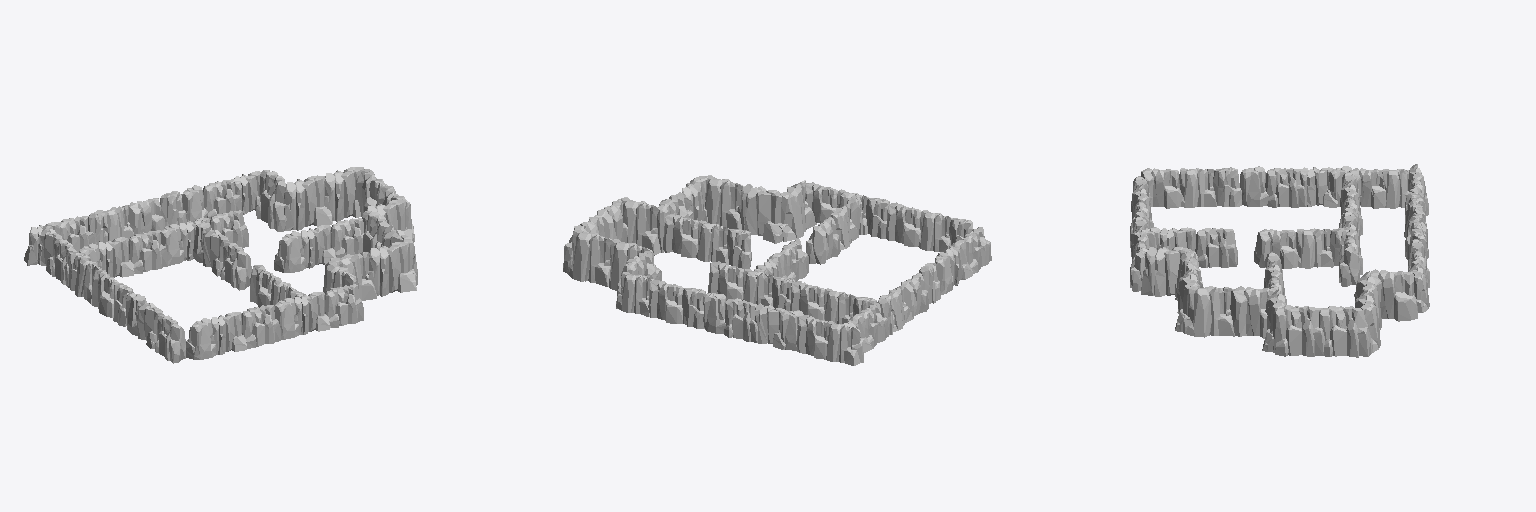
File: rockroom.obj
3 views of the same model, side by side, from view 1: azimuth 30°, elevation 25°; view 2: azimuth 150°, elevation 25°; view 3: azimuth 270°, elevation 25° (orthographic).
Parts seen in each view (by area): view 1: model_2.010; view 2: model_2.010; view 3: model_2.010.
Boxes of the visible parts, x1=… form: model_2.010: x1=24, y1=167, x2=417, y2=363; model_2.010: x1=563, y1=175, x2=991, y2=365; model_2.010: x1=1130, y1=164, x2=1429, y2=357.
Size of the model in its own units: 43.04 by 5.71 by 34.52.